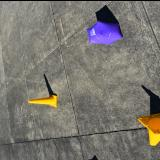cone: (138, 112, 160, 145), (28, 92, 57, 106)
cube: (87, 20, 123, 44)
